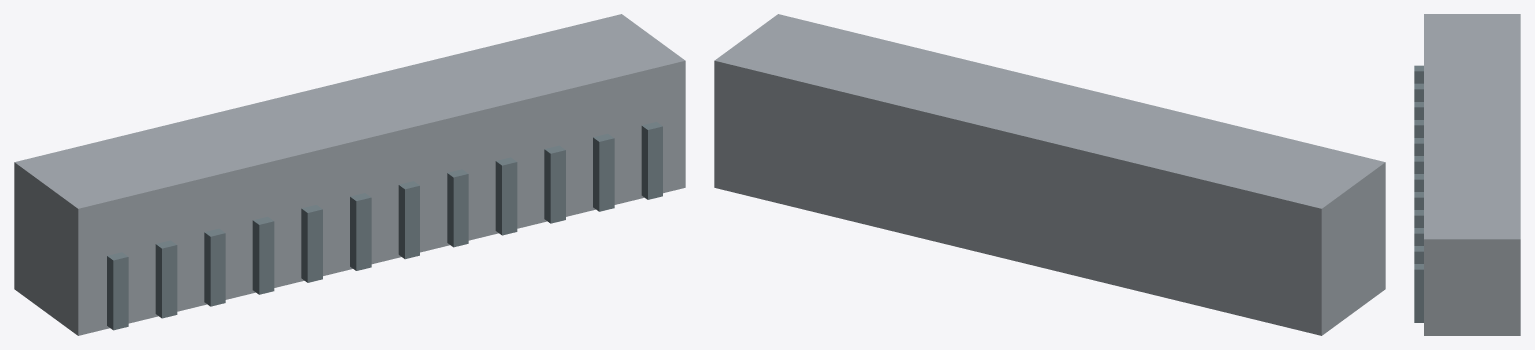
3 views of the same model, side by side, from view 1: azimuth 30°, elevation 25°; view 2: azimuth 150°, elevation 25°; view 3: azimuth 270°, elevation 25° (orthographic). The views are drawn at different scales.
Parts seen in each view (by area): view 1: g0.012, g0.009, g0.006, g0.005, g0.011, g0.002, g0.010, g0.004, g0.008, g0.001, g0.007, g0 (+1 smaller); view 2: g0.012; view 3: g0.012, g0.010, g0.011, g0.009, g0.006, g0.007, g0.008, g0, g0.005, g0.003, g0.001, g0.002 (+1 smaller).
Boxes of the visible parts, x1,y1,x2,y2 form: g0.012: [14, 14, 685, 335]; g0.009: [155, 240, 177, 318]; g0.006: [495, 157, 517, 235]; g0.005: [252, 216, 274, 294]; g0.011: [107, 252, 128, 330]; g0.002: [398, 181, 419, 259]; g0.010: [641, 121, 662, 199]; g0.004: [447, 169, 468, 247]; g0.008: [593, 133, 614, 211]; g0.001: [350, 193, 371, 270]; g0.007: [544, 145, 565, 223]; g0: [204, 228, 225, 306]; g0.012: [714, 14, 1385, 335]; g0.012: [1424, 14, 1520, 335]; g0.010: [1414, 264, 1423, 322]; g0.011: [1414, 65, 1423, 83]; g0.009: [1414, 83, 1423, 101]; g0.006: [1414, 210, 1423, 227]; g0.007: [1414, 228, 1423, 245]; g0.008: [1414, 246, 1423, 263]; g0: [1414, 102, 1423, 119]; g0.005: [1414, 120, 1423, 137]; g0.003: [1414, 138, 1423, 155]; g0.001: [1414, 156, 1423, 173]; g0.002: [1414, 174, 1423, 191].
Bounding box in the file's own units: 1.5 × 0.3 × 0.3.
